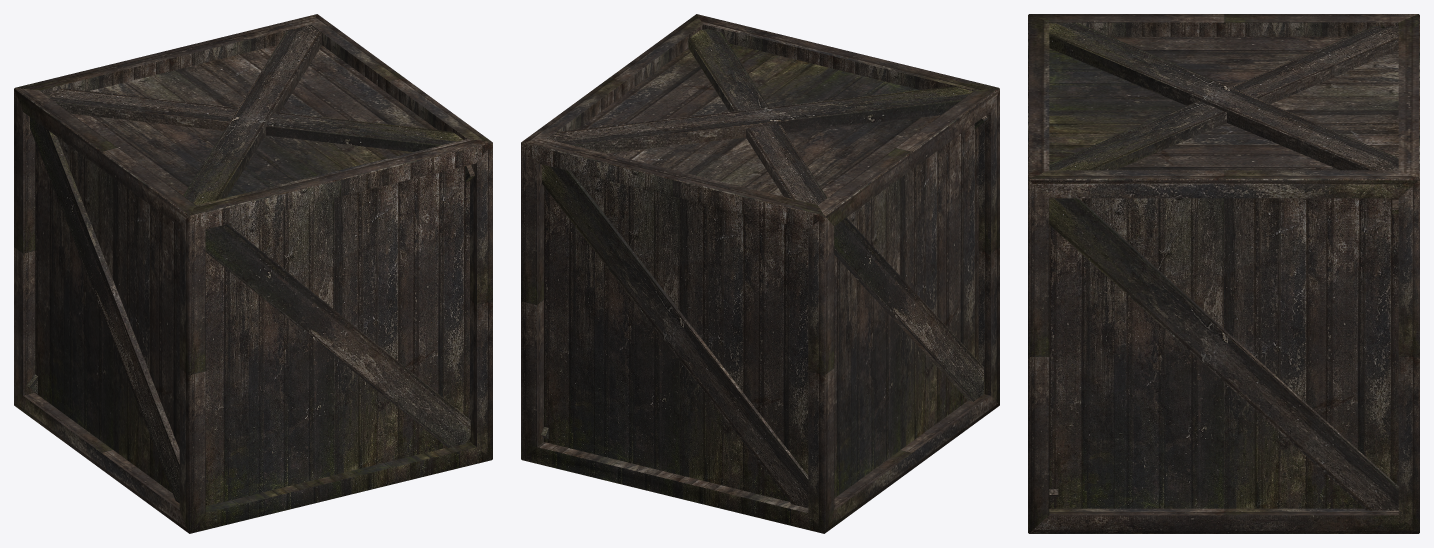
The model's file is WoodenBox_1.fbx.
3 views of the same model, side by side, from view 1: azimuth 30°, elevation 25°; view 2: azimuth 150°, elevation 25°; view 3: azimuth 270°, elevation 25° (orthographic). The views are drawn at different scales.
Parts seen in each view (by area): view 1: WoodenBox_1; view 2: WoodenBox_1; view 3: WoodenBox_1.
Part boxes in pixels (<box>): WoodenBox_1: <box>14,14,492,533</box>; WoodenBox_1: <box>521,14,999,533</box>; WoodenBox_1: <box>1028,14,1419,533</box>.
Size of the model in its own units: 100 by 100 by 100.
